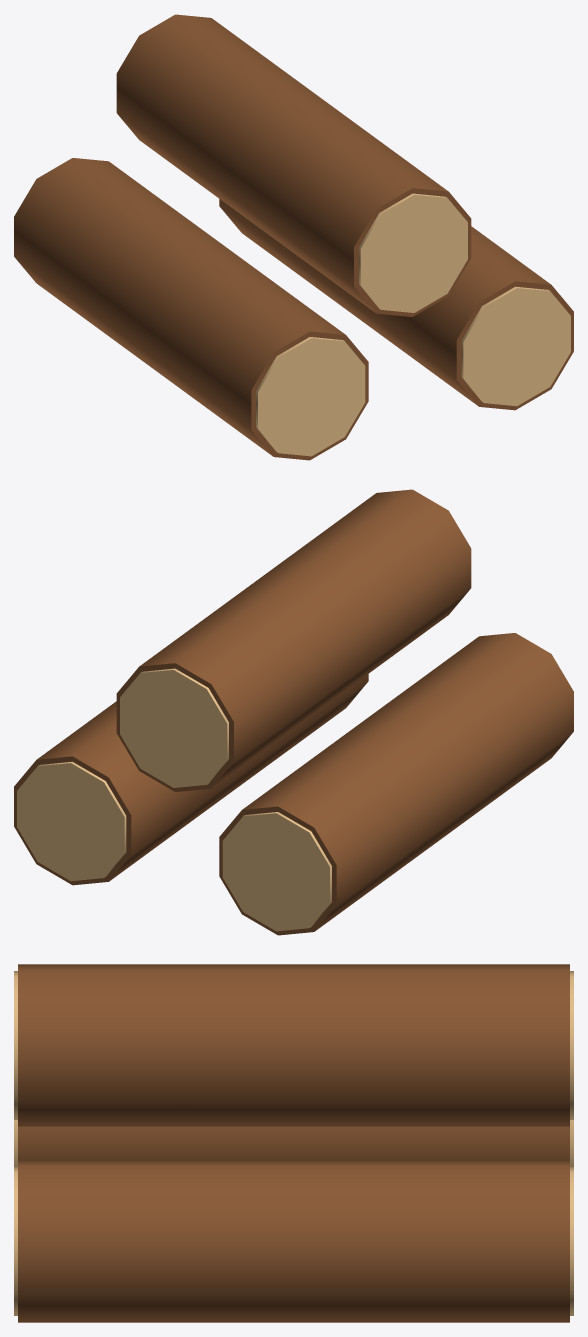
The model's file is log_pile.glb.
3 views of the same model, one above another, from view 1: azimuth 30°, elevation 25°; view 2: azimuth 150°, elevation 25°; view 3: azimuth 270°, elevation 25° (orthographic). The views are drawn at different scales.
Visible parts, largest first — view 1: log_pile; view 2: log_pile; view 3: log_pile.
Boxes of the visible parts, x1,y1,x2,y2 form: log_pile: (14,14,573,460); log_pile: (14,489,573,935); log_pile: (14,964,573,1322).
Bounding box in the file's own units: 0.6283 × 0.46 × 0.812.
